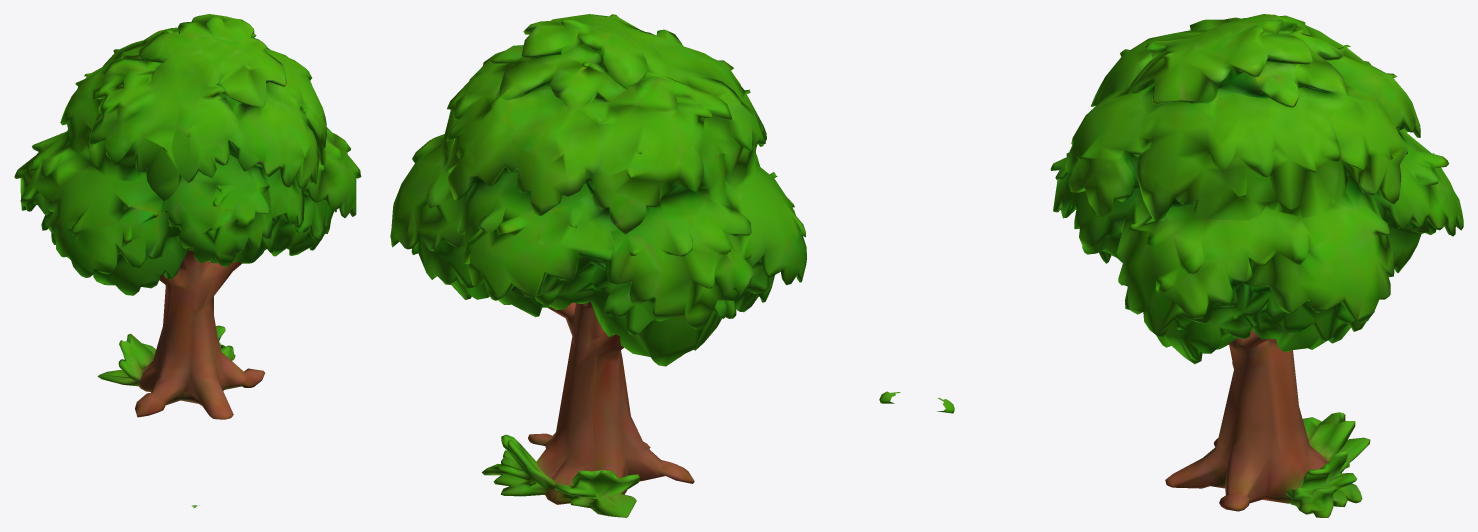
Rendered from tt_smalloak.glb.
3 views of the same model, side by side, from view 1: azimuth 30°, elevation 25°; view 2: azimuth 150°, elevation 25°; view 3: azimuth 270°, elevation 25° (orthographic). The views are drawn at different scales.
Visible parts, largest first — view 1: tree; view 2: tree; view 3: tree.
Boxes of the visible parts, x1,y1,x2,y2 form: tree: (14,14,361,508); tree: (390,14,900,517); tree: (937,14,1463,517).
Size of the model in its own units: 0.8255 by 1 by 1.02.
Materials: 1 (1 with a texture image).
